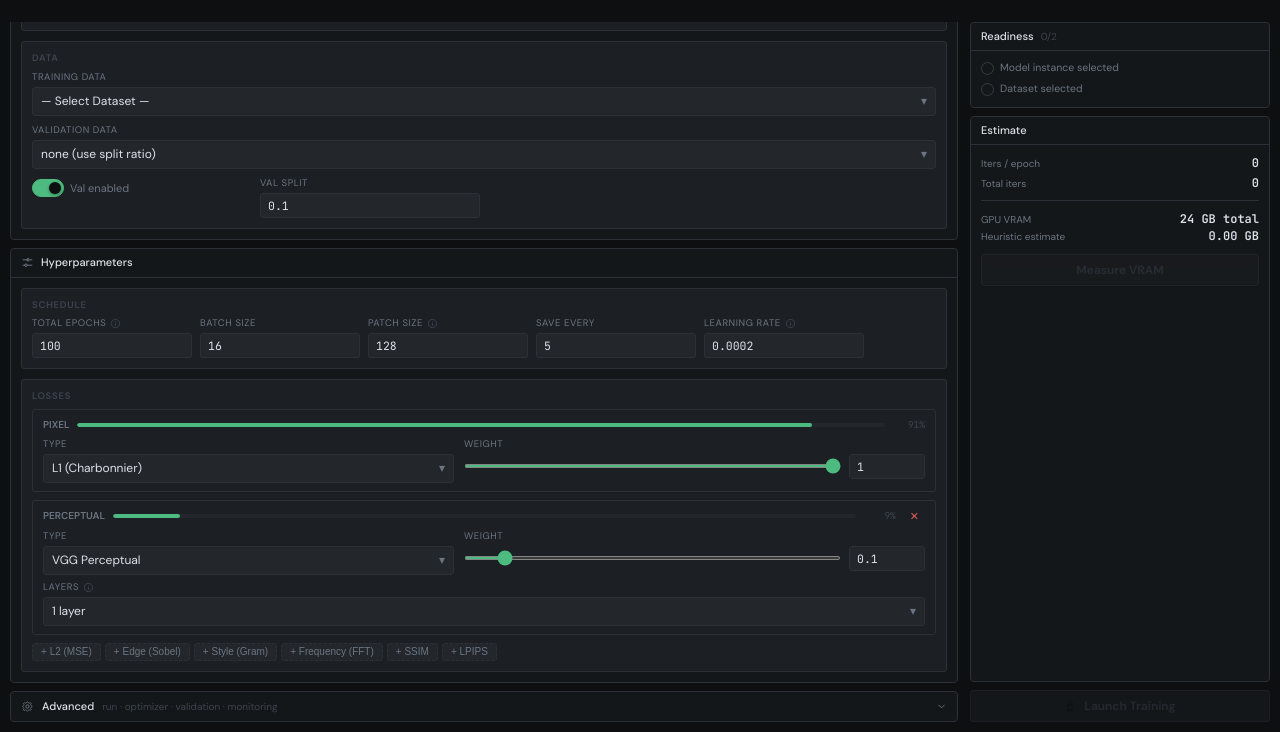
Test: Training Setup (26.9) › Advanced section expands to reveal relocated settings
(page scrolled)
expect the text "Weight Decay" is not shown: met
Click the button "Advanced run · optimizer · validation · monitoring".
click(68, 706)  # box [11, 692, 957, 721]
(page scrolled)
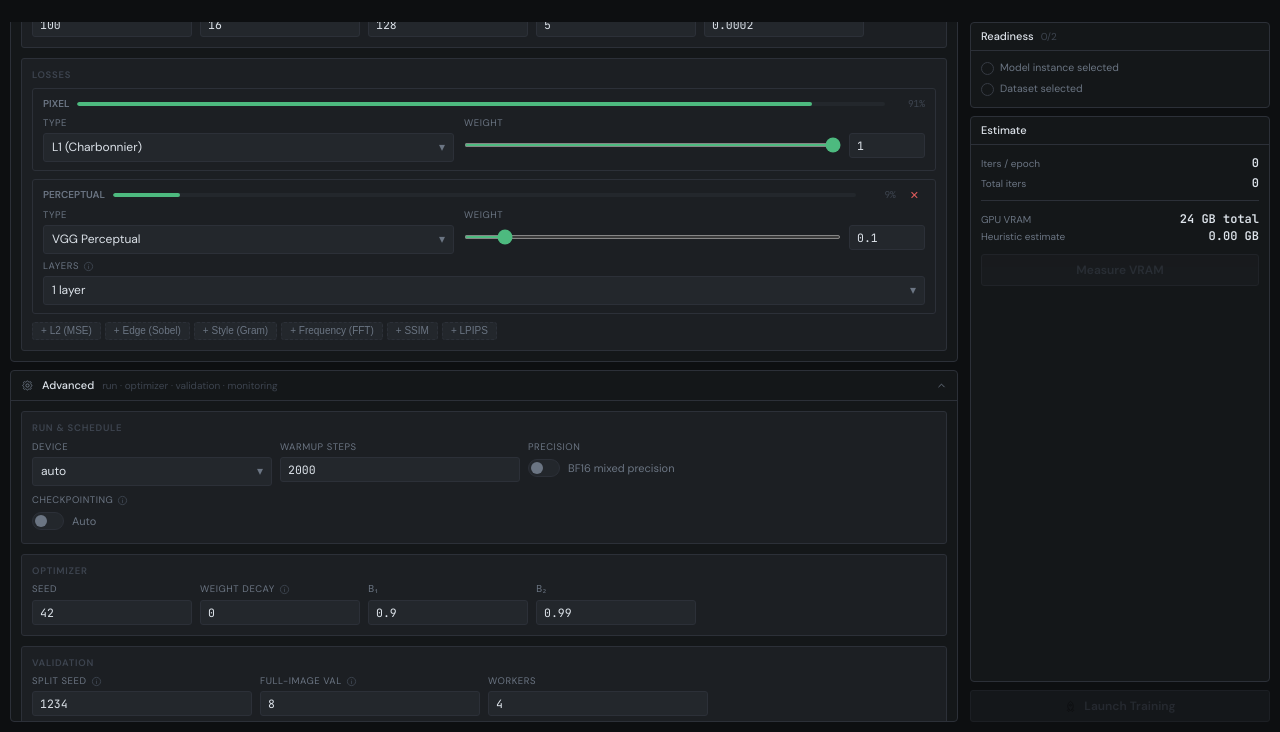
expect the text "Weight Decay" is shown: met, box [200, 583, 290, 596]
expect the text "Checkpointing" is shown: met, box [32, 494, 128, 507]
